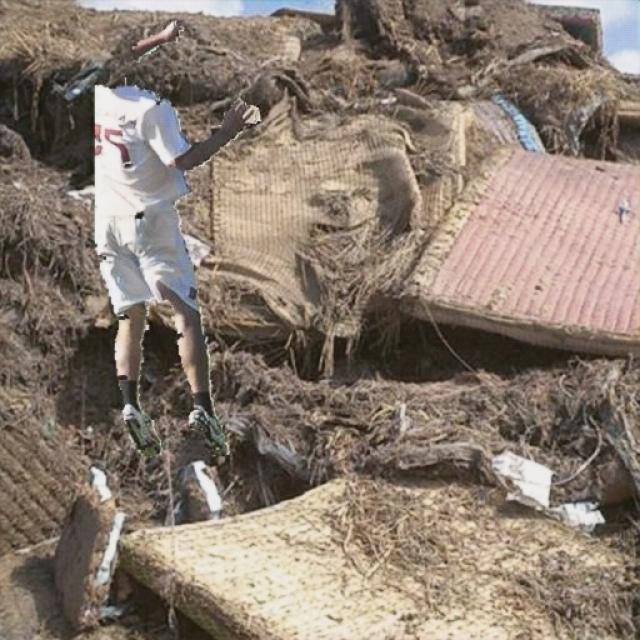Person in Rubble: (95, 21, 260, 456)
